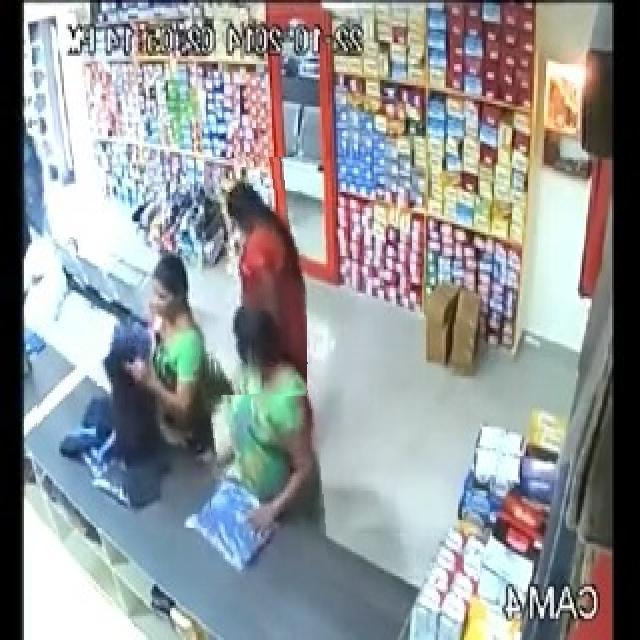Normal: (36, 239, 211, 528), (172, 296, 324, 583), (206, 157, 307, 396)
